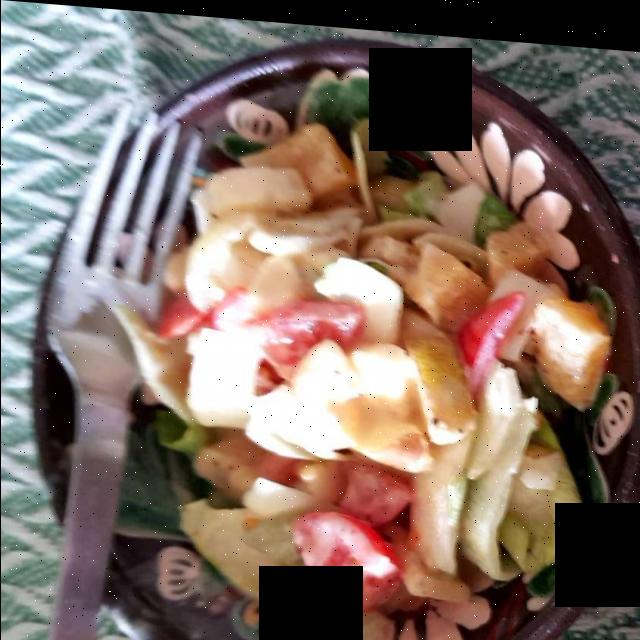witloof-chicory: (161, 165, 577, 619)
